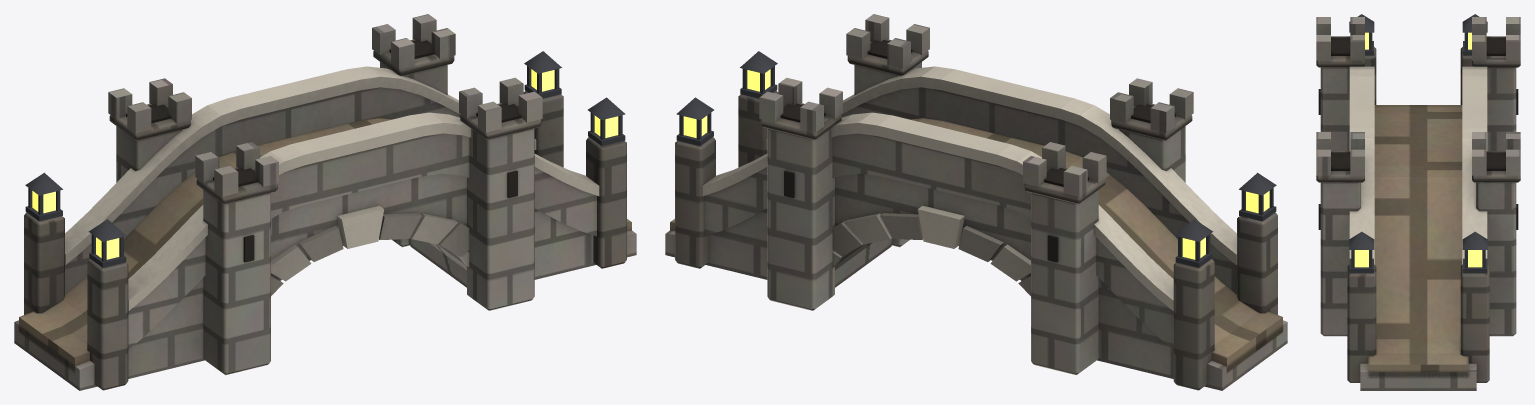
File: bridge.glb
3 views of the same model, side by side, from view 1: azimuth 30°, elevation 25°; view 2: azimuth 150°, elevation 25°; view 3: azimuth 270°, elevation 25° (orthographic). The views are drawn at different scales.
Visible parts, largest first — view 1: span; view 2: span; view 3: span.
Part boxes in pixels (x1=…): span: x1=14, y1=14, x2=636, y2=390; span: x1=665, y1=14, x2=1287, y2=390; span: x1=1316, y1=14, x2=1520, y2=390.
Size of the model in its own units: 0.71 by 0.249 by 0.252.
3 materials, 1 textured.
